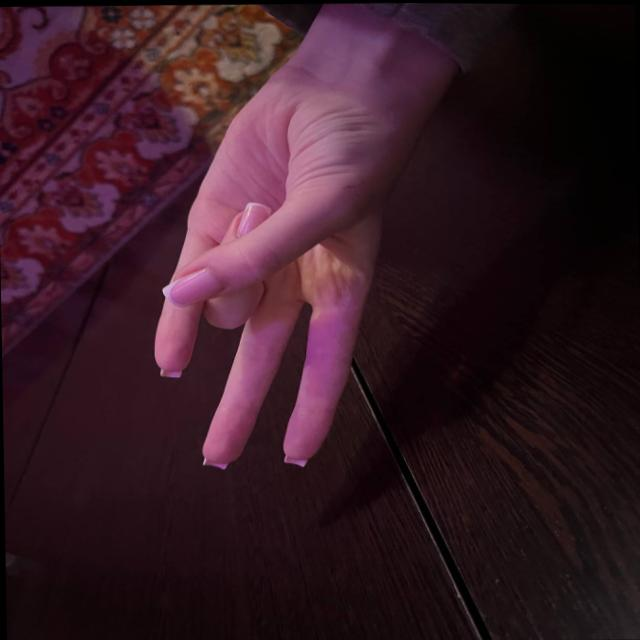n: (148, 67, 370, 478)
